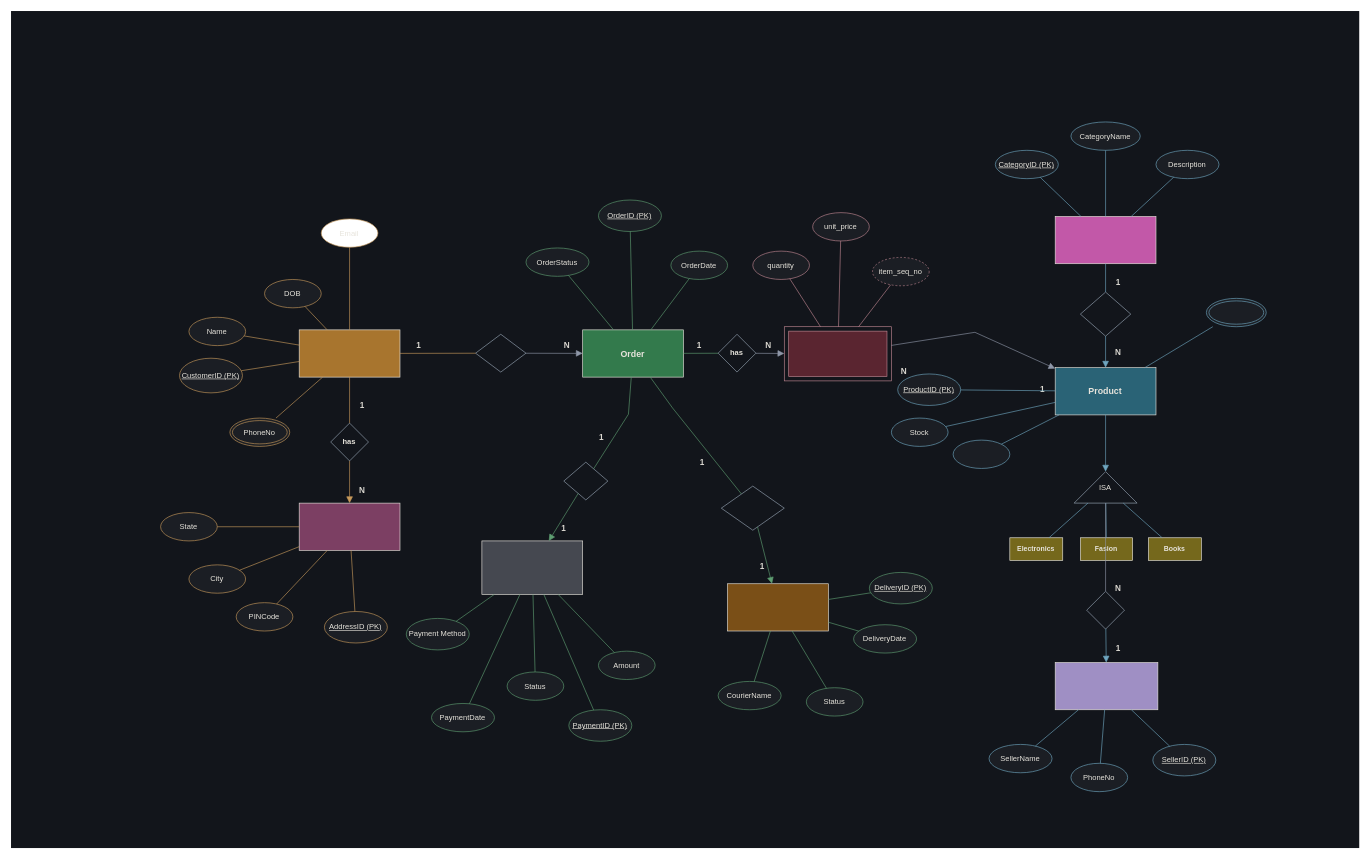
Some shapes in this 1370 by 859 pixel diagram are drawn without their labels. Each missing label, with the box of its shape:
Address: (299, 502, 400, 550)
belongs to: (1080, 291, 1131, 336)
Category: (1055, 216, 1156, 264)
Customer: (299, 329, 400, 377)
delivered via: (721, 485, 784, 530)
Delivery: (727, 583, 828, 631)
Images: (1206, 298, 1266, 327)
lists: (1086, 591, 1124, 629)
OrderItem: (788, 330, 887, 376)
paid by: (563, 462, 608, 500)
Payment: (481, 540, 583, 594)
places: (475, 334, 526, 372)
Price: (952, 439, 1010, 468)
Seller: (1055, 662, 1158, 710)
